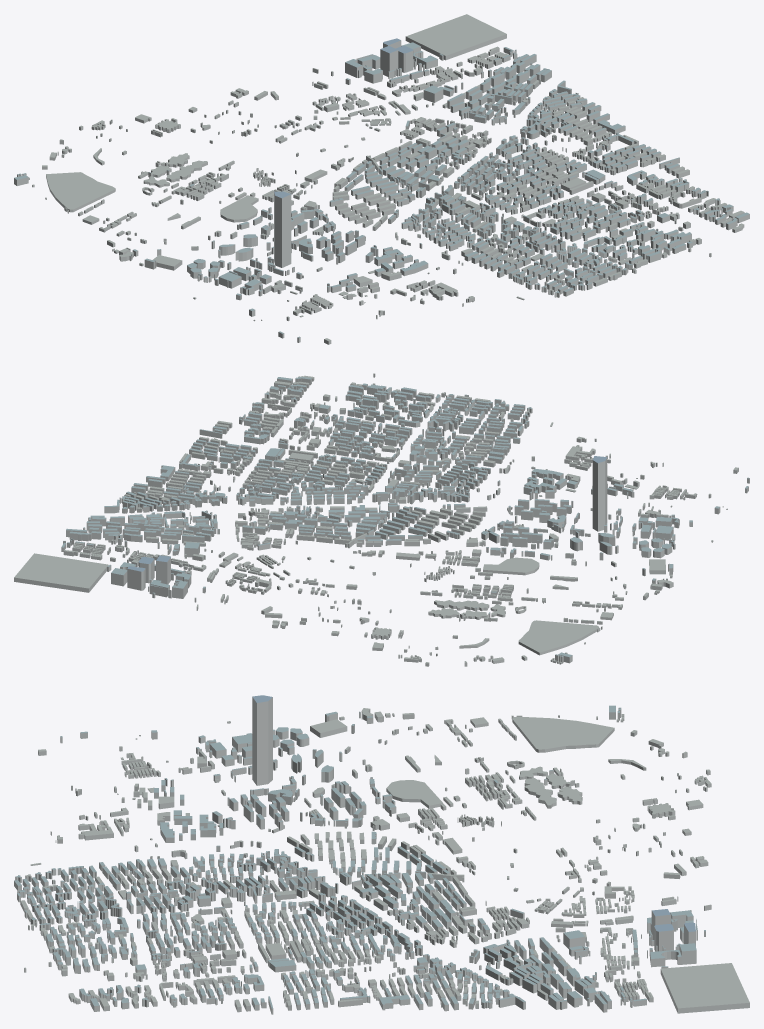
The model's file is far.glb.
3 views of the same model, one above another, from view 1: azimuth 30°, elevation 25°; view 2: azimuth 150°, elevation 25°; view 3: azimuth 270°, elevation 25° (orthographic). The views are drawn at different scales.
Bounding box in the file's own units: 2157 × 276 × 2222.
